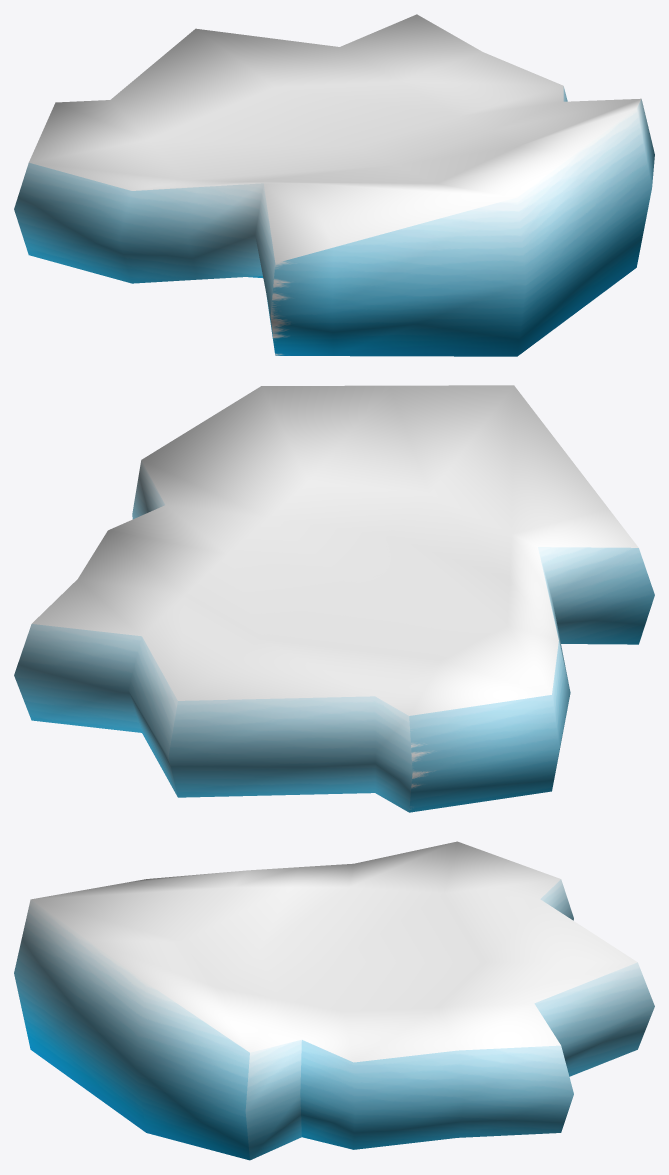
File: iceberg.FBX
3 renders of one model, top to bottom at view 1: azimuth 30°, elevation 25°; view 2: azimuth 150°, elevation 25°; view 3: azimuth 270°, elevation 25°, orthographic. The views are drawn at different scales.
Visible parts, largest first — view 1: Cube; view 2: Cube; view 3: Cube.
Part boxes in pixels (x1,y1,x2,y2): Cube: [14, 14, 654, 356]; Cube: [14, 385, 654, 812]; Cube: [14, 841, 654, 1160].
Size of the model in its own units: 1187 by 344 by 1330.
Materials: 1 (1 with a texture image).
